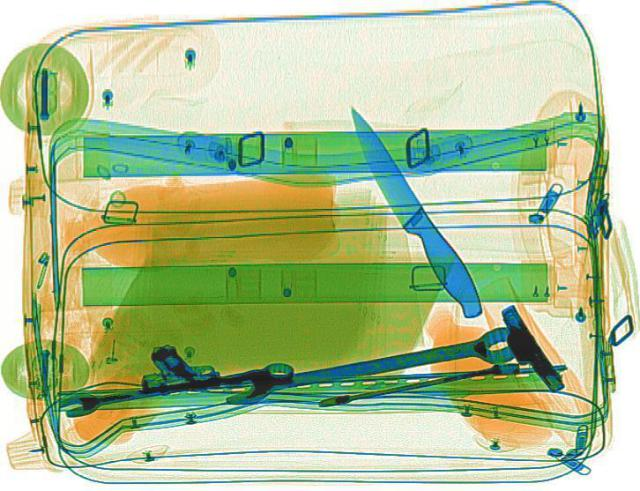Gun: (478, 302, 574, 395), (128, 336, 218, 392)
Knife: (330, 98, 492, 321)
Wrench: (216, 324, 526, 409), (56, 355, 294, 417)
